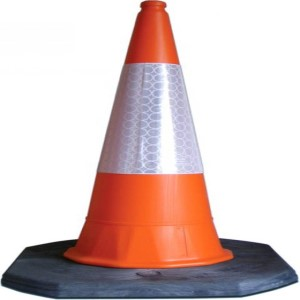traffic cone: (2, 1, 298, 300)
